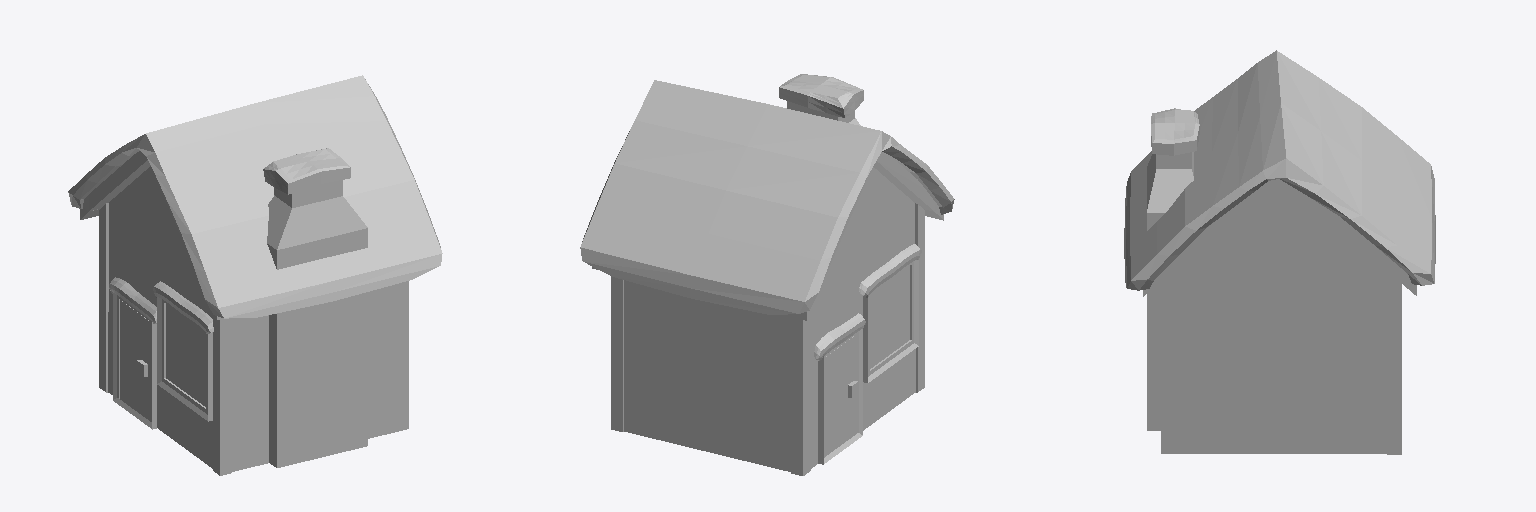
Rendered from house1_snow.obj.
3 views of the same model, side by side, from view 1: azimuth 30°, elevation 25°; view 2: azimuth 150°, elevation 25°; view 3: azimuth 270°, elevation 25° (orthographic).
Parts seen in each view (by area): view 1: Cube.004, wall_Cube.001, Cube.003, Cube.002, Cube.001; view 2: Cube.004, wall_Cube.001, Cube.003, Cube.002, Cube.001; view 3: Cube.004, wall_Cube.001, Cube.003.
Boxes of the visible parts, x1=… form: Cube.004: x1=80, y1=151, x2=408, y2=475; wall_Cube.001: x1=68, y1=75, x2=442, y2=318; Cube.003: x1=263, y1=148, x2=350, y2=194; Cube.002: x1=153, y1=281, x2=213, y2=333; Cube.001: x1=109, y1=277, x2=156, y2=323; Cube.004: x1=592, y1=101, x2=943, y2=475; wall_Cube.001: x1=580, y1=80, x2=954, y2=314; Cube.003: x1=779, y1=74, x2=863, y2=117; Cube.002: x1=859, y1=244, x2=921, y2=297; Cube.001: x1=814, y1=313, x2=865, y2=360; Cube.004: x1=1143, y1=152, x2=1416, y2=454; wall_Cube.001: x1=1124, y1=50, x2=1435, y2=290; Cube.003: x1=1151, y1=108, x2=1199, y2=155.
Bounding box in the file's own units: 5.14 × 6.38 × 5.91.